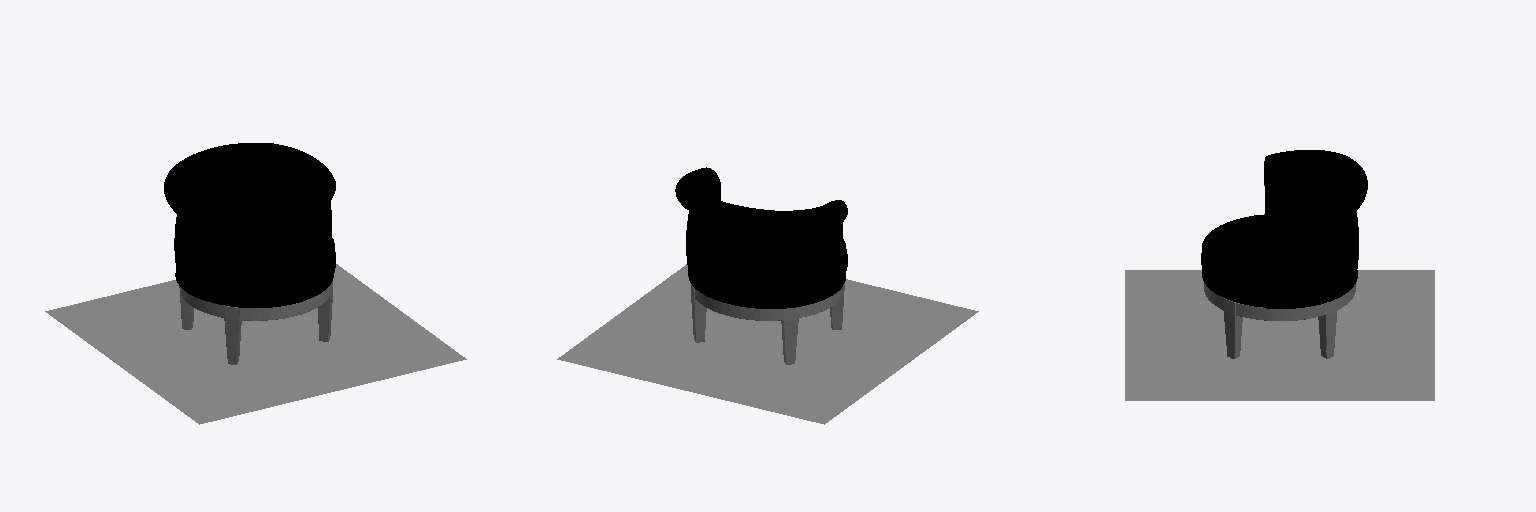
The model's file is LRFY4876_v6_LOD2.obj.
3 views of the same model, side by side, from view 1: azimuth 30°, elevation 25°; view 2: azimuth 150°, elevation 25°; view 3: azimuth 270°, elevation 25° (orthographic).
Visible parts, largest first — view 1: shadow_plane_v6, not_clear_obj_0_v6, not_clear_obj_1_v6; view 2: shadow_plane_v6, not_clear_obj_0_v6, not_clear_obj_1_v6; view 3: shadow_plane_v6, not_clear_obj_0_v6, not_clear_obj_1_v6.
Part boxes in pixels (bbox=[...]): shadow_plane_v6: bbox=[45, 264, 466, 424]; not_clear_obj_0_v6: bbox=[164, 143, 335, 307]; not_clear_obj_1_v6: bbox=[179, 281, 332, 364]; shadow_plane_v6: bbox=[557, 264, 978, 424]; not_clear_obj_0_v6: bbox=[675, 167, 847, 308]; not_clear_obj_1_v6: bbox=[691, 283, 844, 364]; shadow_plane_v6: bbox=[1125, 270, 1434, 400]; not_clear_obj_0_v6: bbox=[1201, 150, 1367, 308]; not_clear_obj_1_v6: bbox=[1204, 283, 1355, 358].
Size of the model in its own units: 143 by 81.25 by 143.